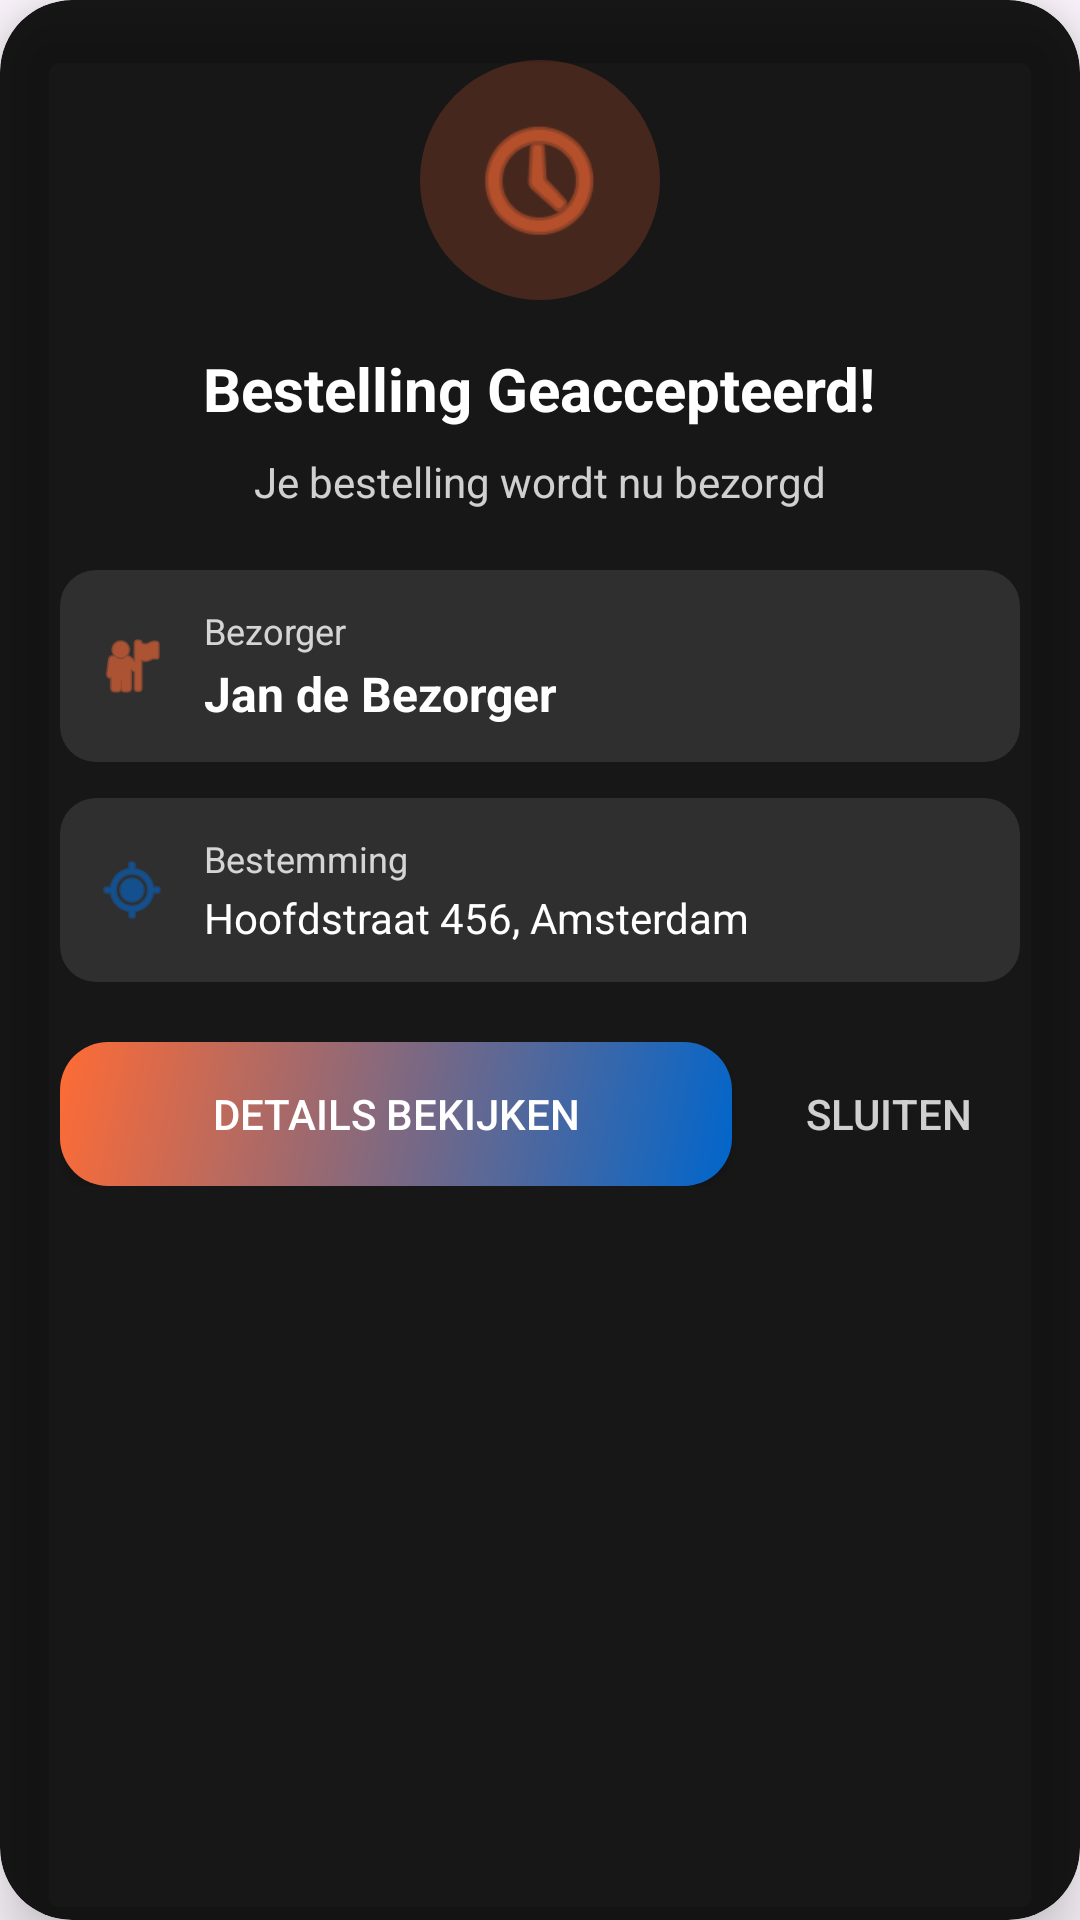

Icons on this 1080w x 1920h Android screen, each with the point to tap as (x=x, y=y):
mylocation: (x=132, y=890)
